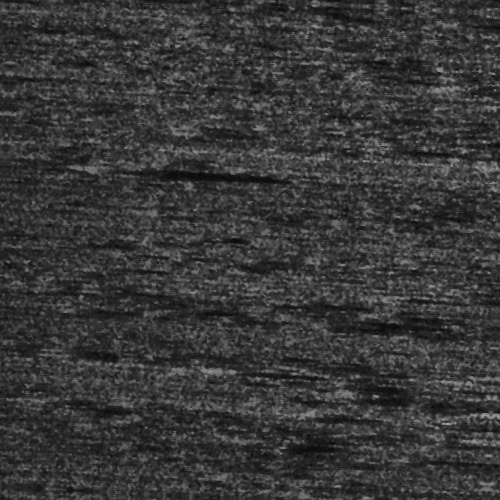object: (72, 171, 135, 180), (208, 367, 271, 372), (469, 418, 500, 427), (337, 138, 390, 143), (447, 359, 500, 364), (489, 392, 500, 403)
shadow: (104, 171, 277, 180), (240, 367, 346, 372), (364, 138, 404, 143), (484, 359, 500, 364)
